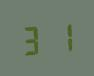one: (47, 20, 74, 53)
three: (19, 22, 46, 55)
